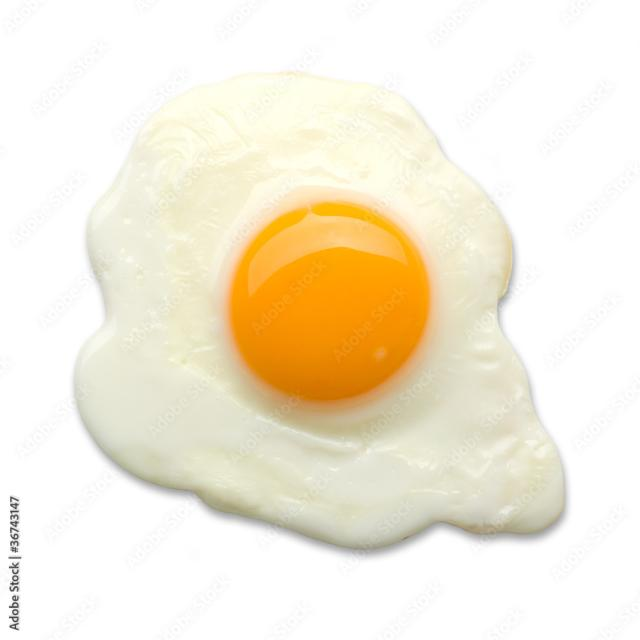Egg: (75, 72, 564, 548)
